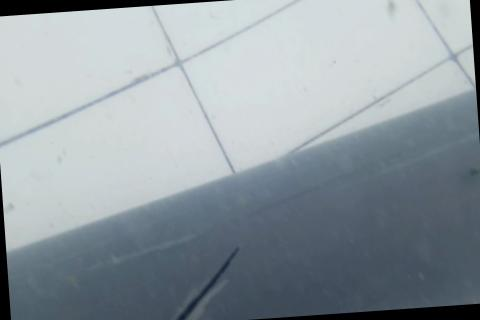keretakan: (144, 242, 245, 320)
